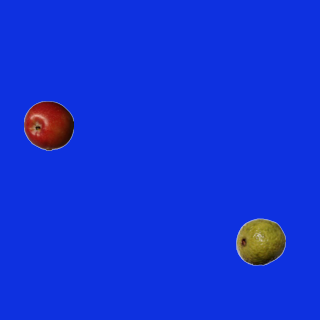Apple Braeburn: (23, 100, 73, 150)
Guava: (235, 216, 285, 266)
